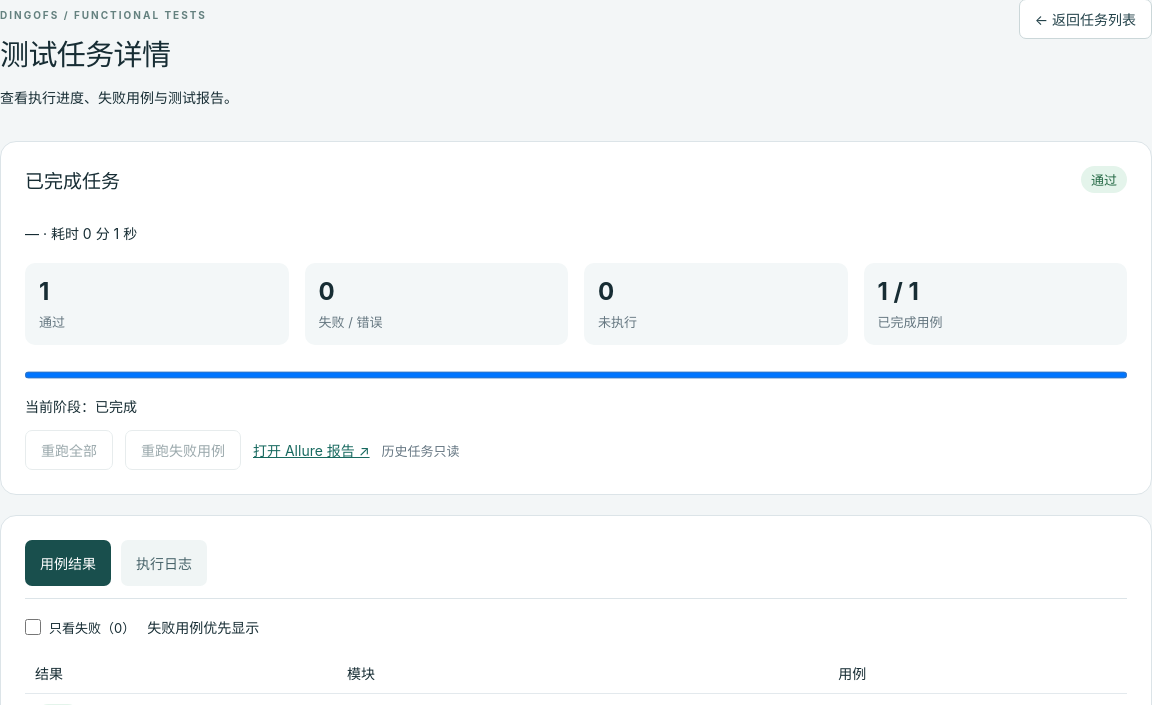
it: successful task disables failed-case rerun and opens report in a new tab
Expected: the button "重跑失败用例" is disabled, [125, 430, 241, 470]
Click the button "执行日志": [164, 563] box [121, 540, 207, 586]
(page scrolled)
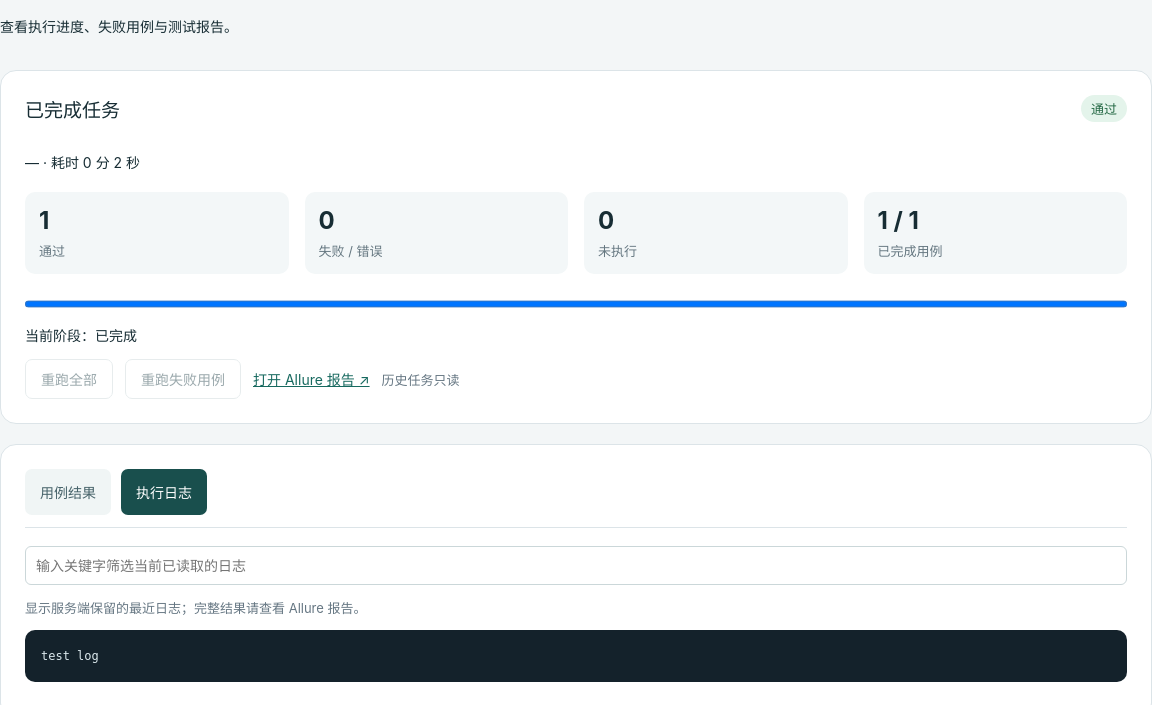
Now the text "test log" is shown, box [25, 630, 1127, 682]
